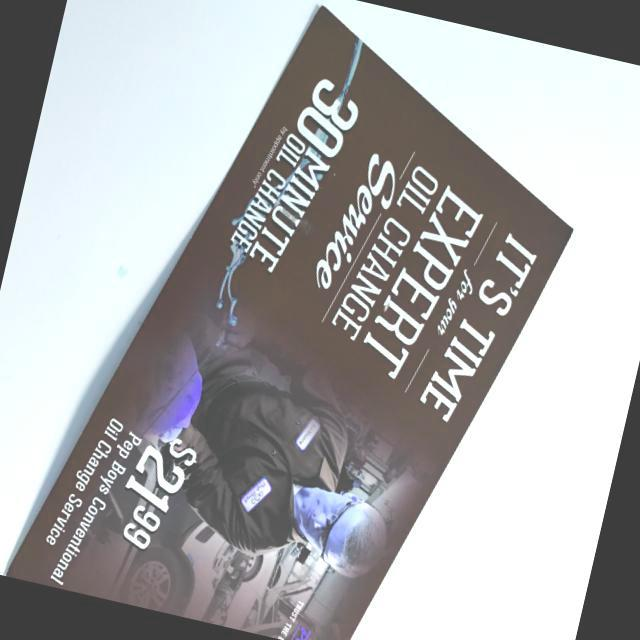paper: (6, 0, 611, 640)
